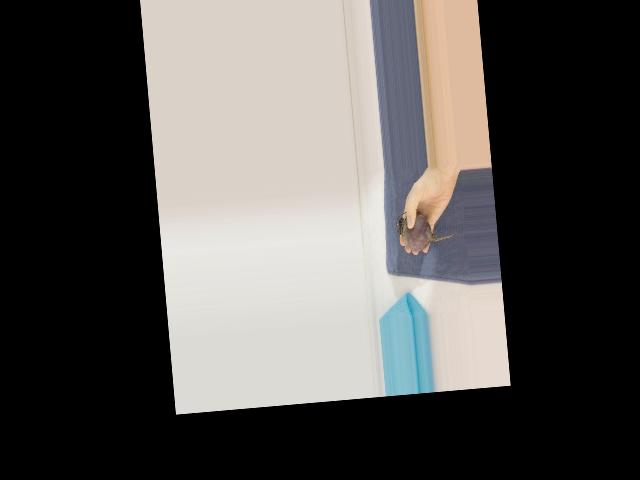beet: (395, 207, 456, 253)
